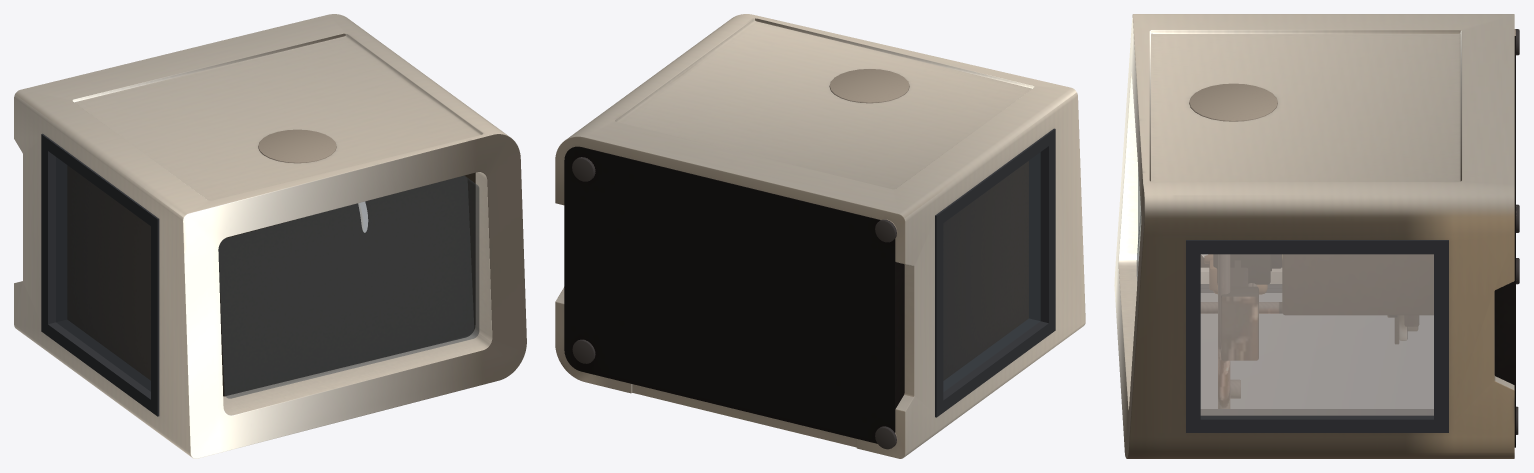
The model's file is deltrol_p2s_explorer_v18.glb.
The picture shows the model from 3 angles, left to right: view 1: azimuth 30°, elevation 25°; view 2: azimuth 150°, elevation 25°; view 3: azimuth 270°, elevation 25°; orthographic projection. The views are drawn at different scales.
Visible parts, largest first — view 1: unibody_shell, top_roof_glass, interior_ceiling_liner, left_glass_window, interior_left_back_baffle, left_window_gasket, rear_exhaust_shroud; view 2: unibody_shell, chassis_recessed_plinth, left_glass_window, interior_left_back_baffle, left_window_gasket, rear_exhaust_shroud; view 3: unibody_shell, right_glass_sheen, right_glass_window, right_window_gasket, interior_rear_electronics_box, x_gantry_crossbeam, chassis_recessed_plinth, rear_exhaust_shroud, x_guide_front, toolhead_chassis.
Part boxes in pixels (x1,y1,x2,y2): unibody_shell: [14, 14, 526, 458]; top_roof_glass: [218, 176, 479, 398]; interior_ceiling_liner: [218, 172, 475, 396]; left_glass_window: [56, 157, 150, 391]; interior_left_back_baffle: [67, 165, 150, 380]; left_window_gasket: [41, 133, 159, 416]; rear_exhaust_shroud: [258, 129, 336, 163]; unibody_shell: [555, 14, 1085, 458]; chassis_recessed_plinth: [564, 146, 904, 443]; left_glass_window: [943, 152, 1040, 391]; interior_left_back_baffle: [943, 161, 1028, 380]; left_window_gasket: [935, 128, 1055, 417]; rear_exhaust_shroud: [829, 69, 909, 103]; unibody_shell: [1114, 14, 1514, 458]; right_glass_sheen: [1201, 254, 1433, 415]; right_glass_window: [1201, 254, 1433, 414]; right_window_gasket: [1186, 240, 1448, 432]; interior_rear_electronics_box: [1201, 254, 1433, 314]; x_gantry_crossbeam: [1221, 260, 1258, 360]; chassis_recessed_plinth: [1494, 36, 1515, 447]; rear_exhaust_shroud: [1189, 83, 1277, 121]; x_guide_front: [1201, 254, 1397, 408]; toolhead_chassis: [1213, 254, 1270, 284].
Size of the model in its own units: 0.426 by 0.2955 by 0.3818.
Materials: 18 (14 with a texture image).
